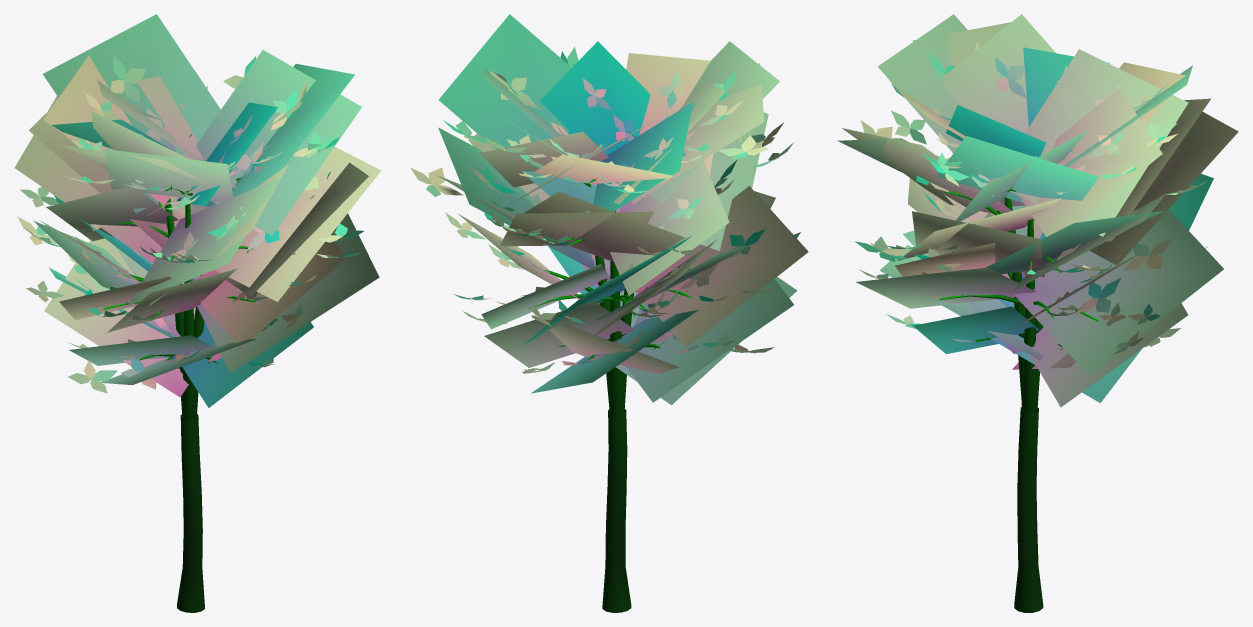
File: teak_2.glb
3 renders of one model, left to right at view 1: azimuth 30°, elevation 25°; view 2: azimuth 150°, elevation 25°; view 3: azimuth 270°, elevation 25°, orthographic. The views are drawn at different scales.
Parts seen in each view (by area): view 1: mid, near; view 2: mid, near; view 3: mid, near.
Boxes of the visible parts, bbox=[...] form: mid: bbox=[14, 14, 381, 419]; near: bbox=[17, 55, 364, 612]; mid: bbox=[438, 14, 808, 415]; near: bbox=[410, 46, 800, 612]; mid: bbox=[837, 14, 1238, 412]; near: bbox=[854, 42, 1207, 612].
Size of the model in its own units: 10.19 by 15.66 by 10.49.
